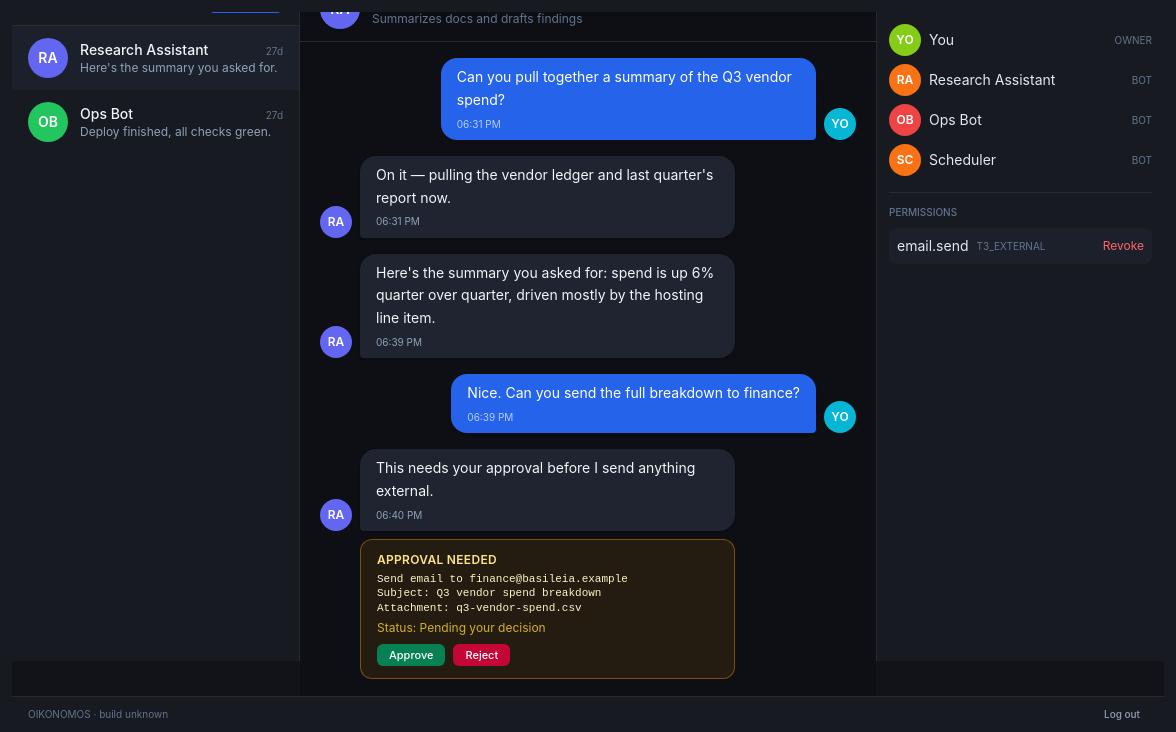
Test: ChatShell › activeRoleId wiring to RightPanel (TASK-124) › switches the shown grants when a different bot is selected in the sidebar
(page scrolled)
Expected: the text "email.send" is shown, [897,236,968,256]
Click the option "OB Ops Bot 27d Deploy finished, all checks green." at (156, 122), box [12,90,299,154]
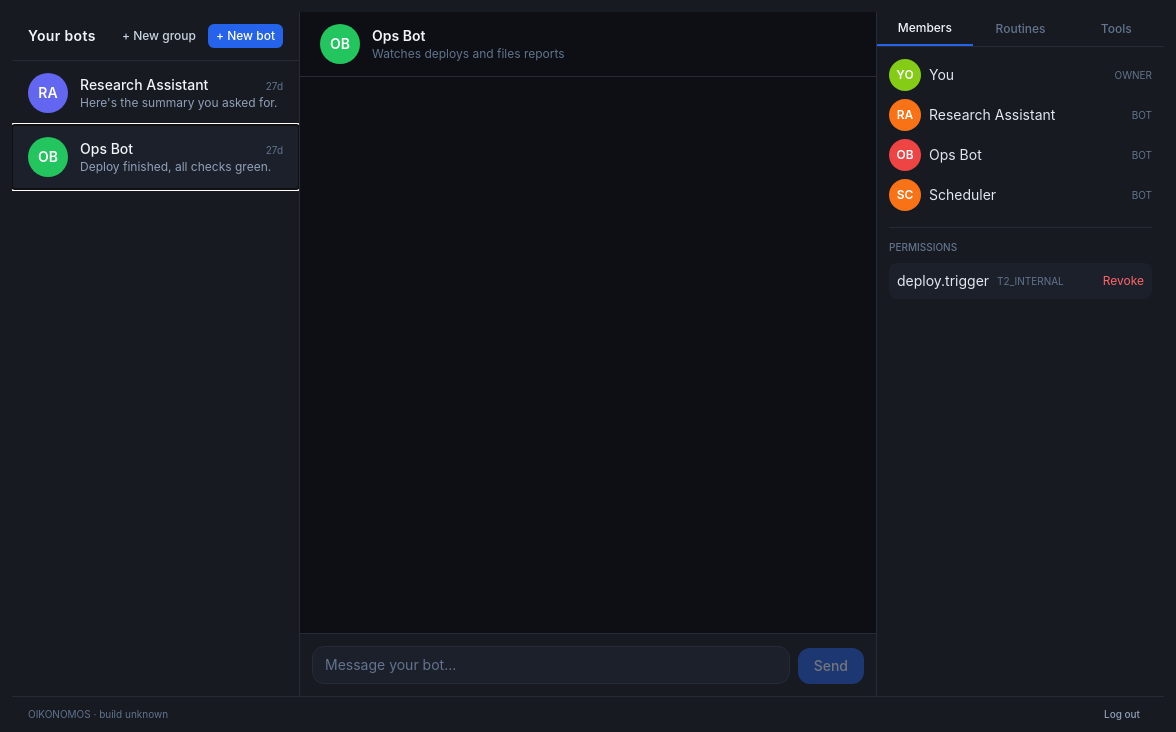
Now the text "deploy.trigger" is shown, box [897,271,989,291]
Now the text "email.send" is gone
